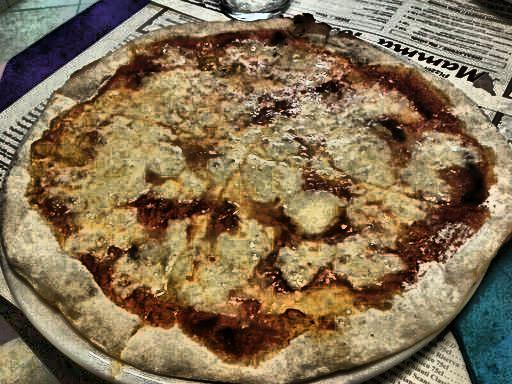pizza: (21, 15, 512, 361)
